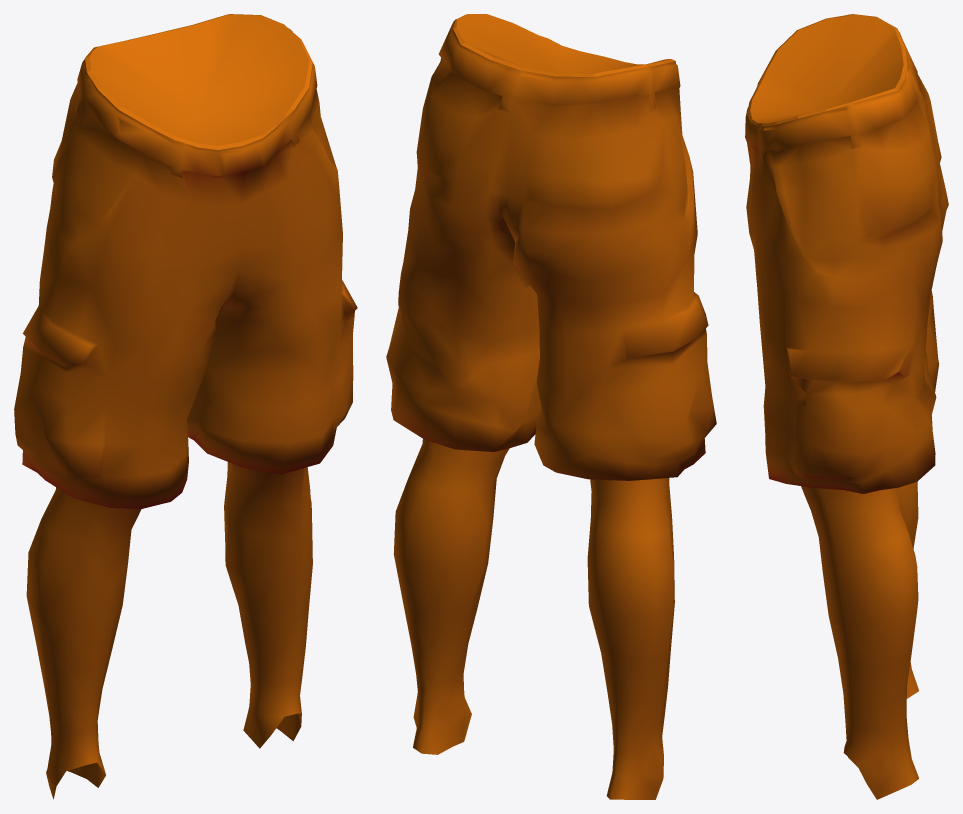
Rendered from calçaofem8.glb.
3 views of the same model, side by side, from view 1: azimuth 30°, elevation 25°; view 2: azimuth 150°, elevation 25°; view 3: azimuth 270°, elevation 25° (orthographic). The views are drawn at different scales.
Visible parts, largest first — view 1: hash_83FA4FF4.model; view 2: hash_83FA4FF4.model; view 3: hash_83FA4FF4.model.
Part boxes in pixels (x1,y1,x2,y2): hash_83FA4FF4.model: (14, 14, 357, 799); hash_83FA4FF4.model: (386, 14, 716, 799); hash_83FA4FF4.model: (745, 14, 948, 799).
Size of the model in its own units: 0.4803 by 1.07 by 0.287.
